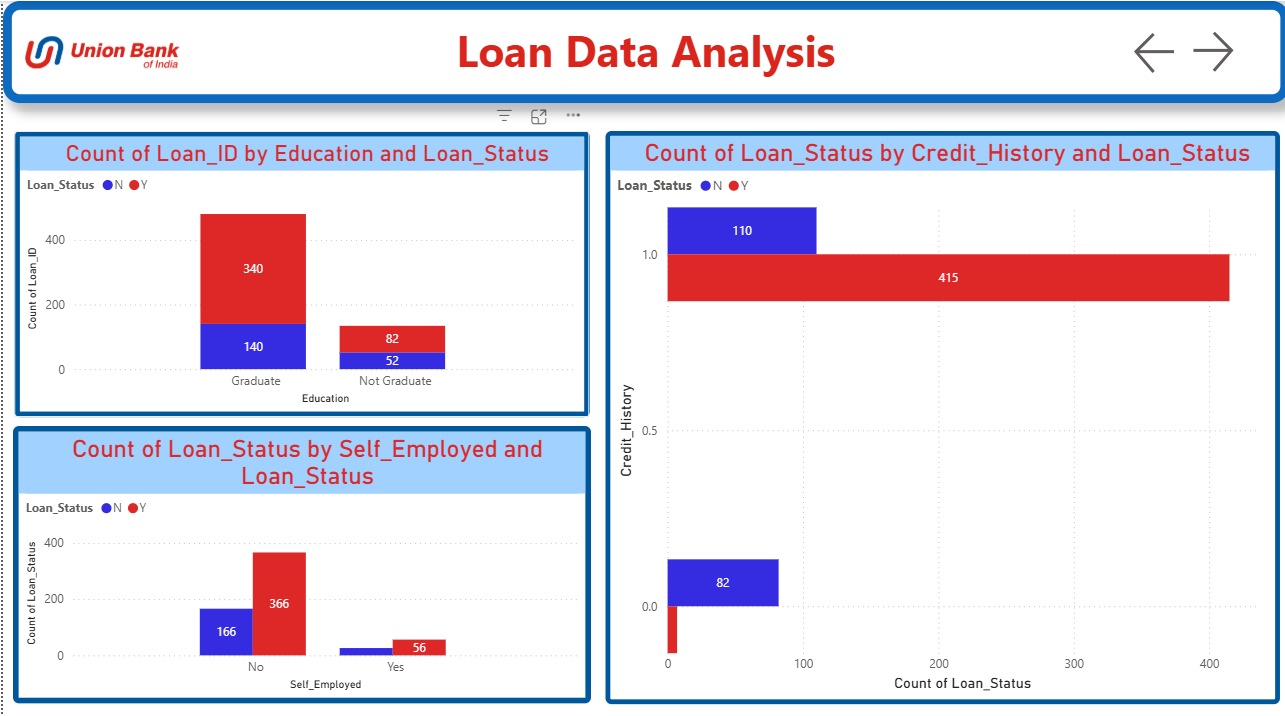

This screenshot's page, from the dashboard's own definition file:
{"tool":"powerbi","page":{"name":"Loan Approval Analysis","canvas":[1280,720],"ordinal":1},"visuals":[{"type":"columnChart","fields":{"Category":["loan.Education"],"Y":["CountNonNull(loan.Loan_ID)"],"Series":["loan.Loan_Status"]},"box":[11.2,128.8,572.5,285],"z":0},{"type":"clusteredColumnChart","fields":{"Category":["loan.Self_Employed"],"Y":["CountNonNull(loan.Loan_Status)"],"Series":["loan.Loan_Status"]},"box":[10,422.5,575,276.2],"z":1000},{"type":"textbox","box":[0,0,1280,101.2],"z":2000},{"type":"image","box":[17.5,8.8,163.8,85],"z":3000},{"type":"clusteredBarChart","fields":{"Category":["loan.Credit_History"],"Y":["CountNonNull(loan.Loan_Status)"],"Series":["loan.Loan_Status"]},"box":[600,128.8,671.2,570],"z":4000},{"type":"actionButton","box":[1177.5,25,102.5,51.2],"z":5000},{"type":"actionButton","box":[1121.2,26.2,112.5,51.2],"z":6000},{"type":"actionButton","box":[6.2,10,185.3,83.3],"z":7000}]}

Visuals, with their boxes in screenshot pixels (x1, y1, x2, y2), scaled from the page's 1280x720 canvas onto the 1285x716 screenshot:
columnChart - loan.Education x CountNonNull(loan.Loan_ID): detection(11, 128, 586, 412)
clusteredColumnChart - loan.Self_Employed x CountNonNull(loan.Loan_Status): detection(10, 420, 587, 695)
textbox: detection(0, 0, 1284, 101)
image: detection(18, 9, 182, 93)
clusteredBarChart - loan.Credit_History x CountNonNull(loan.Loan_Status): detection(602, 128, 1276, 695)
actionButton: detection(1182, 25, 1284, 76)
actionButton: detection(1126, 26, 1239, 77)
actionButton: detection(6, 10, 192, 93)
